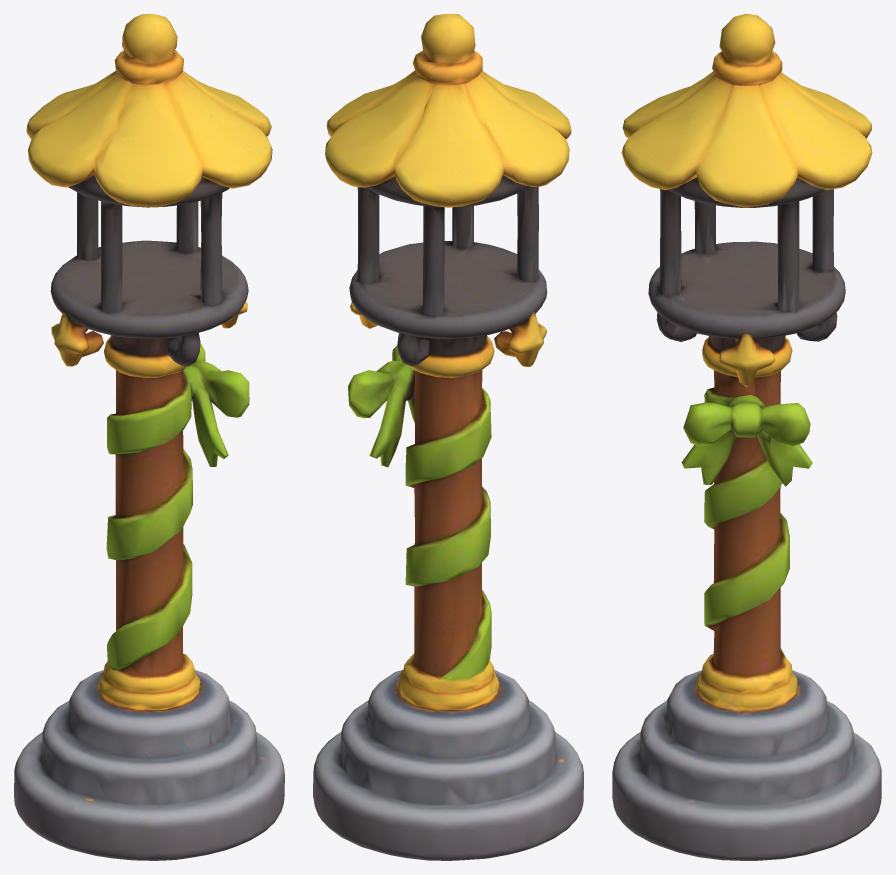
File: prop_lantern.glb
The picture shows the model from 3 angles, left to right: view 1: azimuth 30°, elevation 25°; view 2: azimuth 150°, elevation 25°; view 3: azimuth 270°, elevation 25°; orthographic projection.
Visible parts, largest first — view 1: tripo_node_47958ce5-50af-42a5-b02a-7e58a332673c; view 2: tripo_node_47958ce5-50af-42a5-b02a-7e58a332673c; view 3: tripo_node_47958ce5-50af-42a5-b02a-7e58a332673c.
Boxes of the visible parts, left/top/right/bottom form: tripo_node_47958ce5-50af-42a5-b02a-7e58a332673c: left=14, top=14, right=284, bottom=860; tripo_node_47958ce5-50af-42a5-b02a-7e58a332673c: left=313, top=14, right=583, bottom=860; tripo_node_47958ce5-50af-42a5-b02a-7e58a332673c: left=612, top=14, right=881, bottom=860.
Size of the model in its own units: 0.31 by 1 by 0.308.
Materials: 1 (1 with a texture image).
